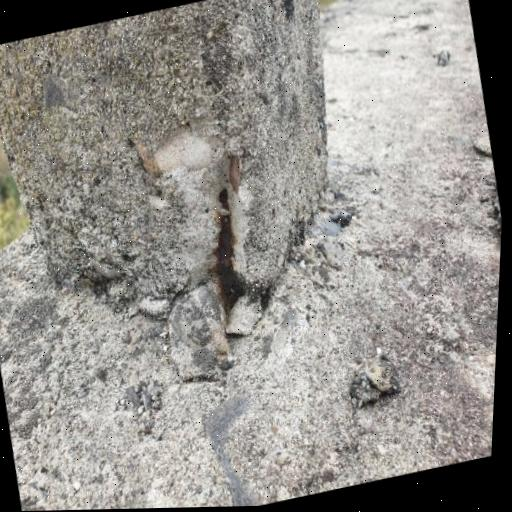exposed_rebar: (215, 188, 245, 311)
